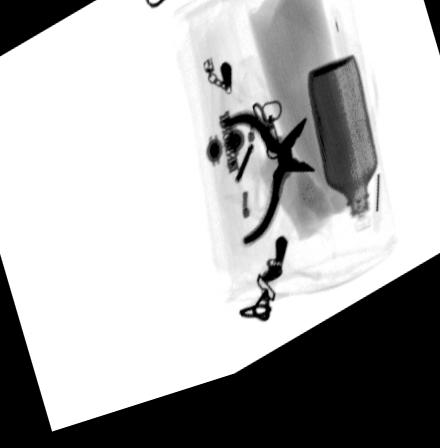Pliers: (222, 124, 317, 264)
